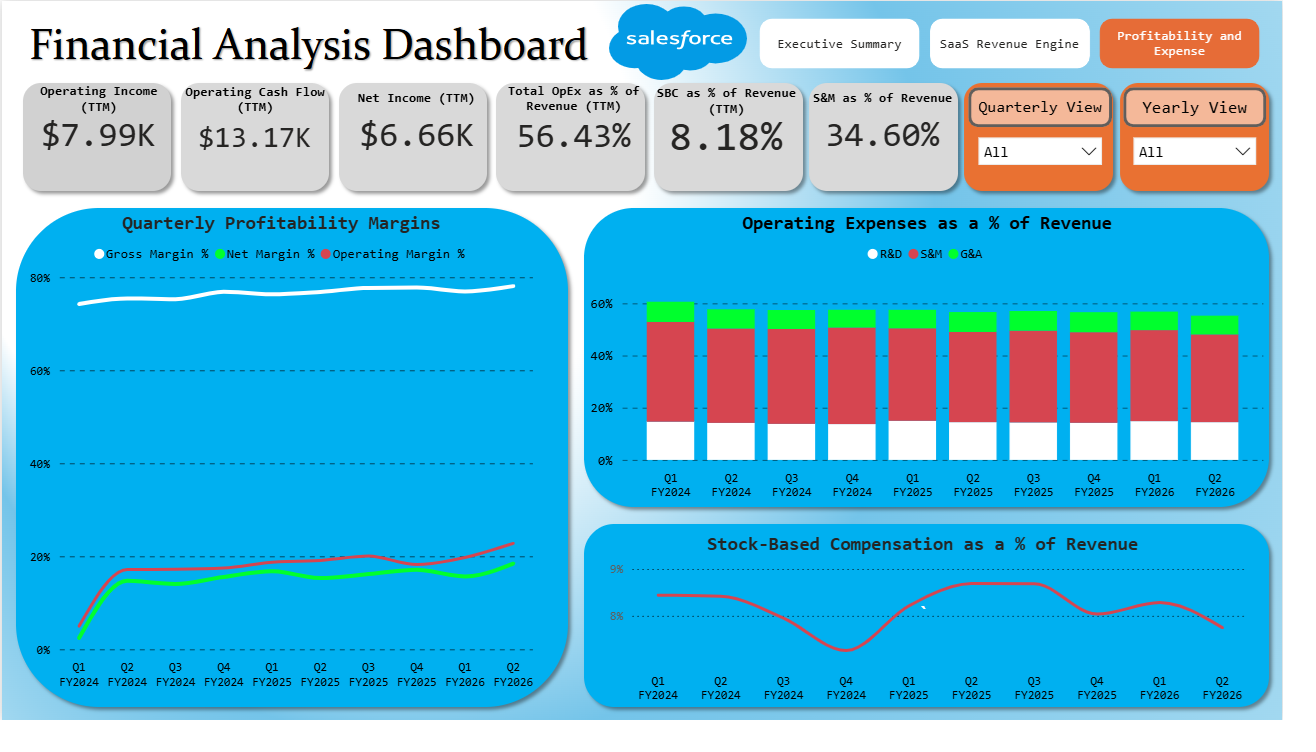

Layout of this report page (visuals, bound fields, positions):
{"tool":"powerbi","page":{"name":"Profitability and Expense","canvas":[1280,720],"ordinal":2},"visuals":[{"type":"columnChart","title":"Operating Expenses as a % of Revenue","fields":{"Category":["Qdata.Period"],"Y":["Sum(Qdata.rd_expense_adj)","Sum(Qdata.sm_expense_adj)","Sum(Qdata.ga_expense_adj)"]},"box":[583.9,211.1,682.8,295.6],"z":0},{"type":"lineChart","title":"Stock-Based Compensation as a % of Revenue","fields":{"Category":["Qdata.Period"],"Y":["Qdata.SBC as a % of Revenue"]},"box":[586.3,532,668.4,177.3],"z":1000},{"type":"pageNavigator","box":[757.5,17.5,500,50],"z":2000},{"type":"lineChart","title":"Quarterly Profitability Margins","fields":{"Category":["Qdata.Period"],"Y":["Qdata.Gross Margin %","Qdata.Net Margin %","Qdata.Operating Margin %"]},"box":[20.5,211.1,518.8,485],"z":3000},{"type":"card","fields":{"Values":["Qdata.Net Income (TTM)"]},"box":[352.3,107.4,125.5,49.5],"z":4000},{"type":"card","fields":{"Values":["Qdata.Operating Cash Flow (TTM)"]},"box":[190.5,111,126.1,49.2],"z":5000},{"type":"card","fields":{"Values":["Qdata.Operating Income (TTM)"]},"box":[34.1,107.2,126.1,49.2],"z":6000},{"type":"card","fields":{"Values":["Qdata.Total OpEx as % of Revenue (TTM)"]},"box":[508.3,108.5,126.1,49.2],"z":7000},{"type":"card","fields":{"Values":["Qdata.Stock-Based Comp as % of Revenue (TTM)"]},"box":[660.9,107.2,126.1,49.2],"z":8000},{"type":"card","fields":{"Values":["Qdata.S&M as % of Revenue (TTM)"]},"box":[817.3,107.2,126.1,49.2],"z":9000},{"type":"shape","box":[18.8,80,156.2,35.6],"z":10000},{"type":"shape","box":[175.3,79.5,156.4,36.6],"z":11000},{"type":"shape","box":[336.8,78.2,156.4,36.6],"z":12000},{"type":"shape","box":[493.2,78.2,156.4,36.6],"z":13000},{"type":"shape","box":[645.8,80.7,156.4,36.6],"z":14000},{"type":"shape","box":[802.2,78.2,156.4,36.6],"z":15000},{"type":"actionButton","box":[966.2,86.2,143.8,40],"z":16000},{"type":"actionButton","box":[1121.2,86.2,143,40],"z":17000},{"type":"slicer","fields":{"Values":["Qdata.Period"]},"box":[966.2,126.2,143.8,47.5],"z":18000},{"type":"slicer","fields":{"Values":["FYdata.Period"]},"box":[1121.2,126.2,142.5,47.5],"z":19000}]}

Visuals, with their boxes in screenshot pixels (x1, y1, x2, y2), scaled from the page's 1280x720 canvas onto the 1316x752 screenshot:
"Operating Expenses as a % of Revenue" columnChart: crop(600, 220, 1302, 529)
"Stock-Based Compensation as a % of Revenue" lineChart: crop(603, 556, 1290, 741)
pageNavigator: crop(779, 18, 1293, 70)
"Quarterly Profitability Margins" lineChart: crop(21, 220, 554, 727)
card - Qdata.Net Income (TTM): crop(362, 112, 491, 164)
card - Qdata.Operating Cash Flow (TTM): crop(196, 116, 326, 167)
card - Qdata.Operating Income (TTM): crop(35, 112, 165, 163)
card - Qdata.Total OpEx as % of Revenue (TTM): crop(523, 113, 652, 165)
card - Qdata.Stock-Based Comp as % of Revenue (TTM): crop(679, 112, 809, 163)
card - Qdata.S&M as % of Revenue (TTM): crop(840, 112, 970, 163)
shape: crop(19, 84, 180, 121)
shape: crop(180, 83, 341, 121)
shape: crop(346, 82, 507, 120)
shape: crop(507, 82, 668, 120)
shape: crop(664, 84, 825, 123)
shape: crop(825, 82, 986, 120)
actionButton: crop(993, 90, 1141, 132)
actionButton: crop(1153, 90, 1300, 132)
slicer - Qdata.Period: crop(993, 132, 1141, 181)
slicer - FYdata.Period: crop(1153, 132, 1299, 181)
